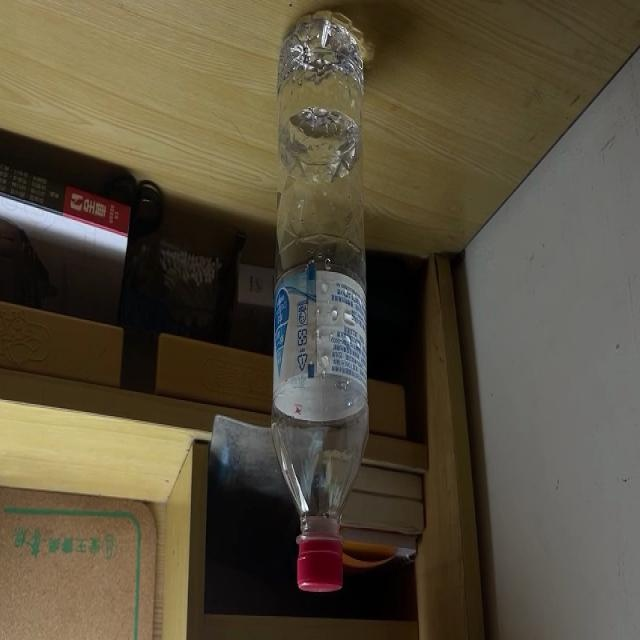Water: (274, 10, 371, 594)
